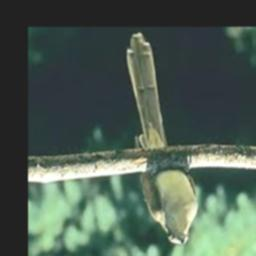Cuckoo: (126, 33, 199, 244)
